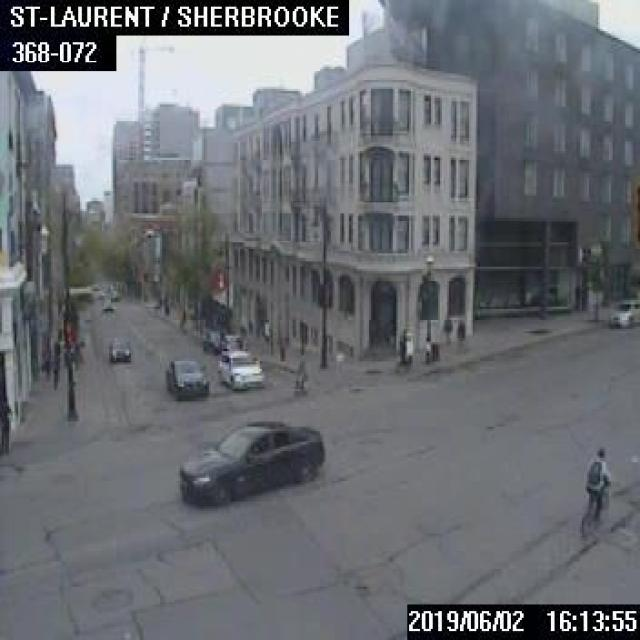cyclist: (578, 444, 611, 536)
pedestrian: (0, 394, 11, 452), (455, 316, 464, 342), (442, 314, 450, 343)
vehicle: (174, 418, 326, 504), (214, 347, 262, 389), (162, 354, 209, 396), (607, 296, 638, 326), (107, 338, 129, 362), (201, 329, 223, 353), (220, 333, 244, 351)
